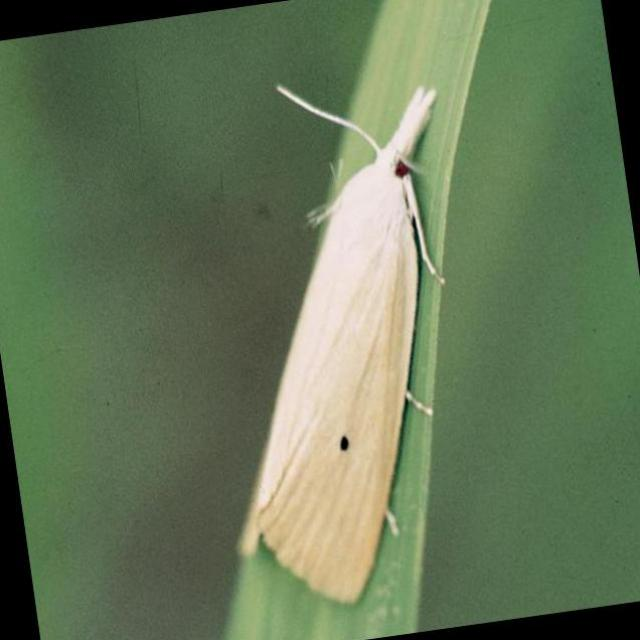stem borer: (243, 88, 445, 603)
